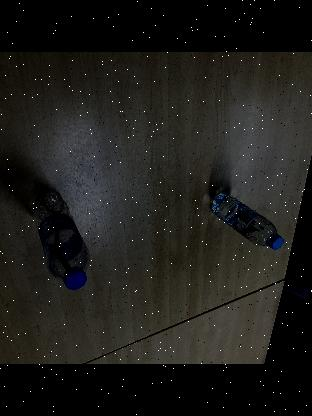Plastic Bottle: (30, 192, 92, 290), (208, 192, 282, 250)
